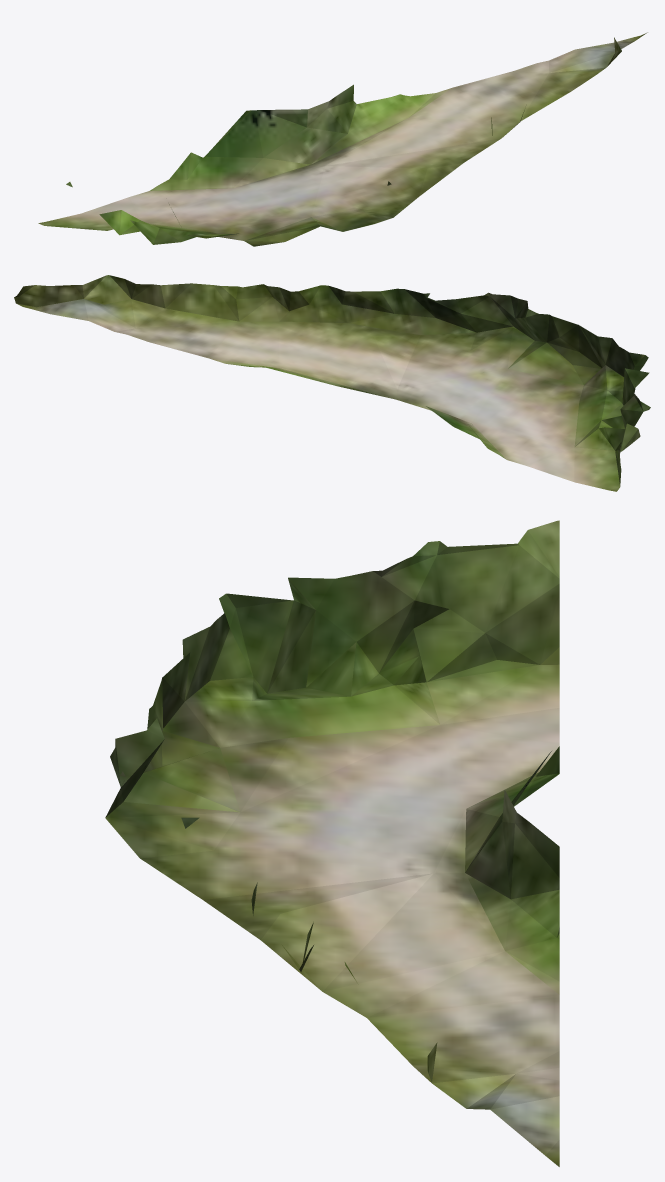
3 views of the same model, one above another, from view 1: azimuth 30°, elevation 25°; view 2: azimuth 150°, elevation 25°; view 3: azimuth 270°, elevation 25° (orthographic). The views are drawn at different scales.
Bounding box in the file's own units: 42.46 × 3.98 × 13.34.
Materials: 1 (1 with a texture image).
